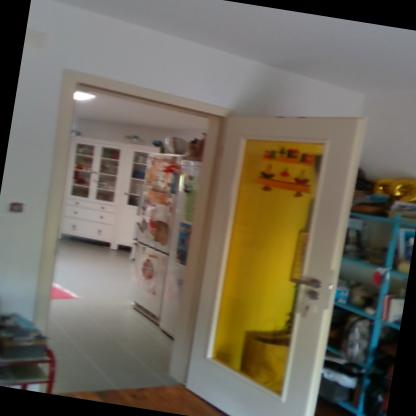open: (0, 50, 366, 415)
